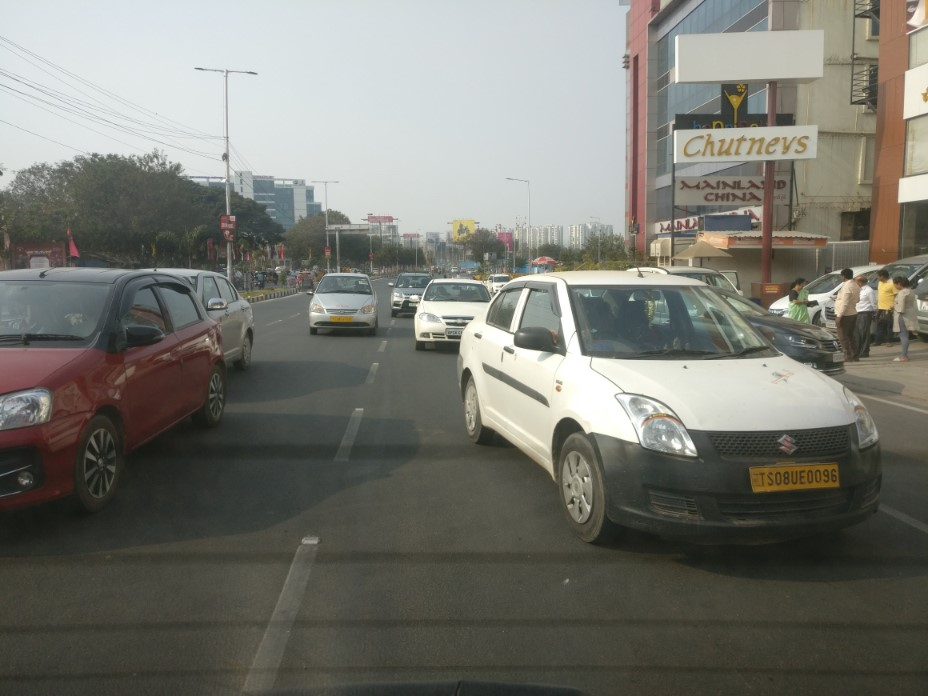swift desire: (466, 266, 882, 570)
